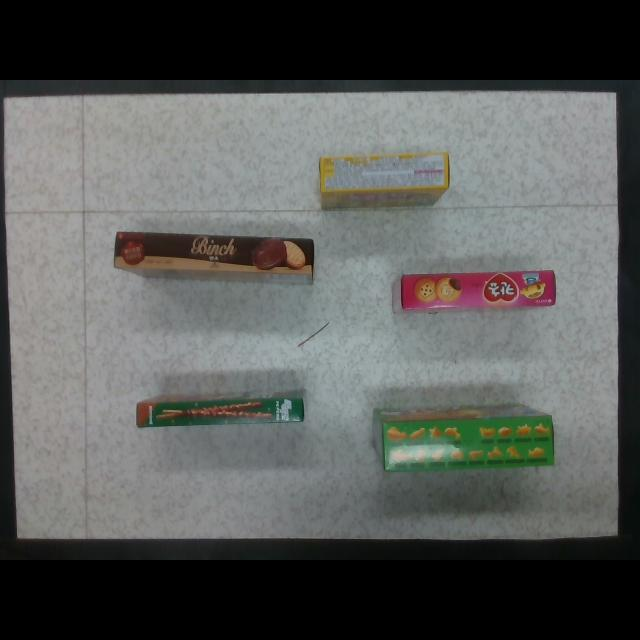box: (376, 406, 553, 472), (114, 231, 315, 284), (322, 152, 450, 208), (394, 271, 556, 314), (137, 392, 304, 428)
